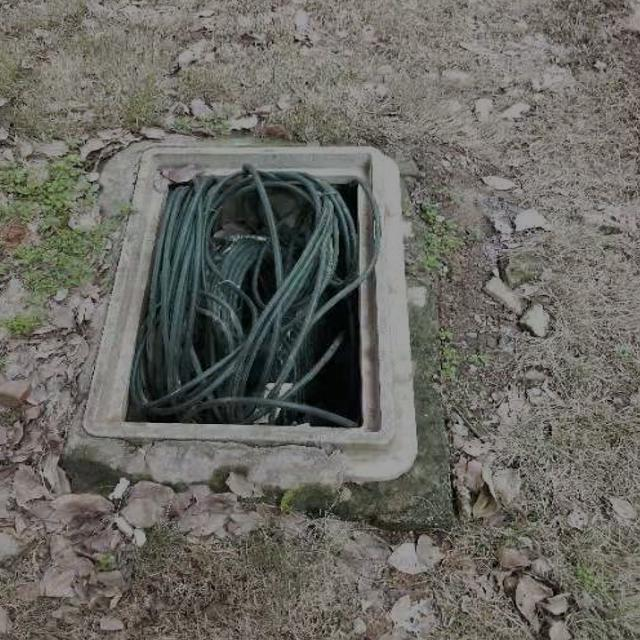lose: (63, 116, 437, 497)
